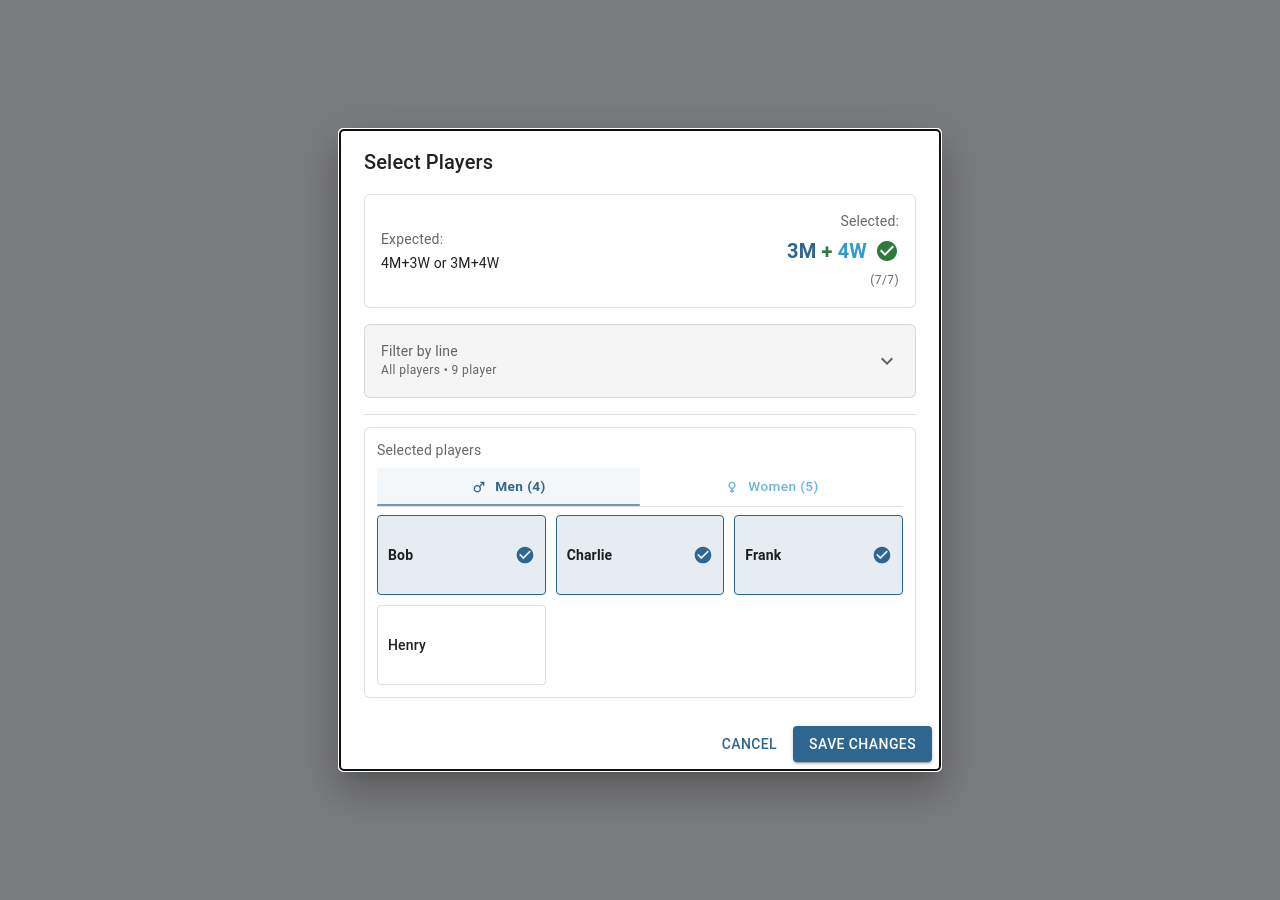
Test: ManagePlayersDialog › Gender Tabs › switches to women tab when clicked
Click the tab "Women (5)": (772, 487) x1=640 y1=468 x2=903 y2=506
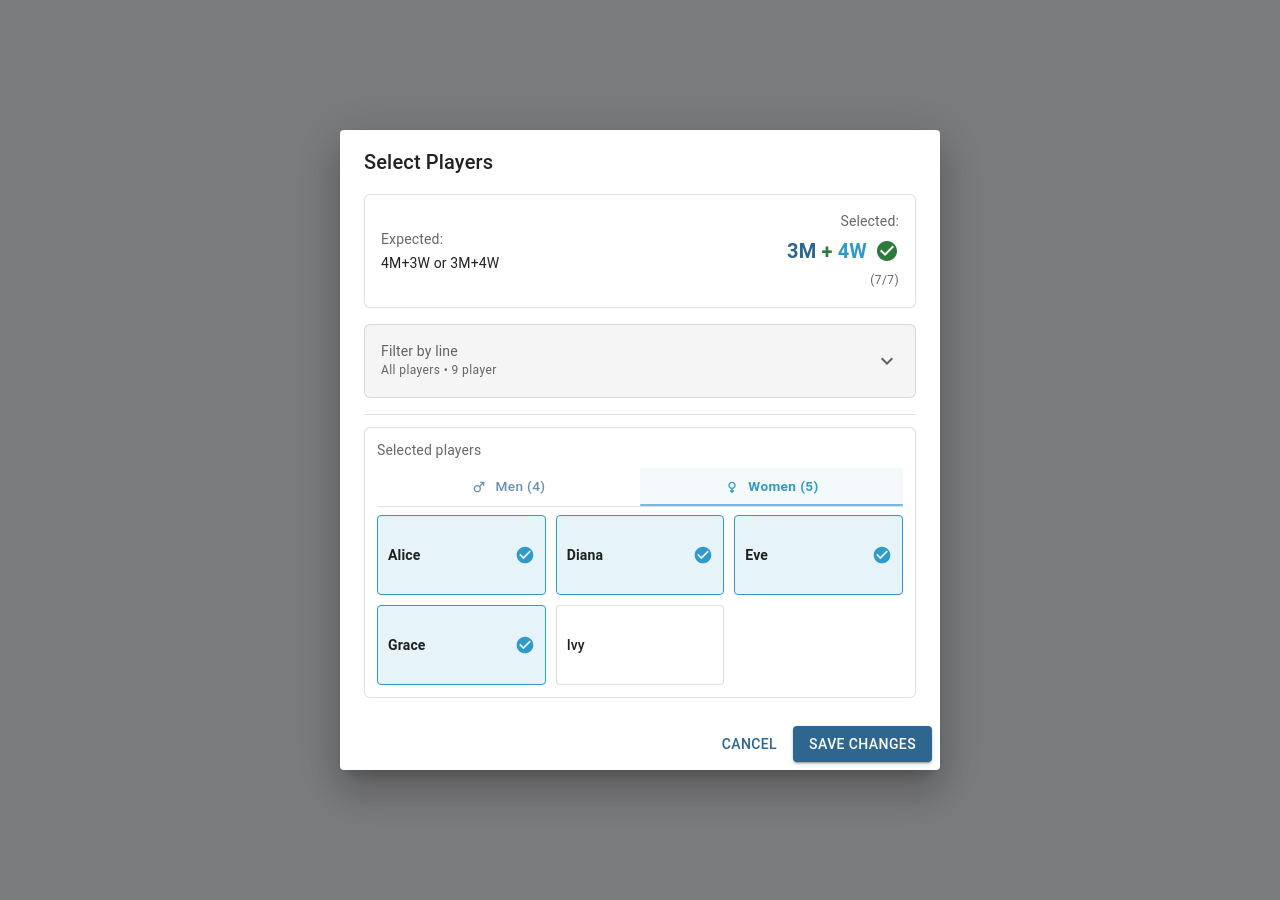
Check: the text "Alice" is shown, box x1=388 y1=547 x2=420 y2=563
Check: the text "Diana" is shown, box x1=567 y1=547 x2=603 y2=563
Check: the text "Eve" is shown, box x1=745 y1=547 x2=768 y2=563
